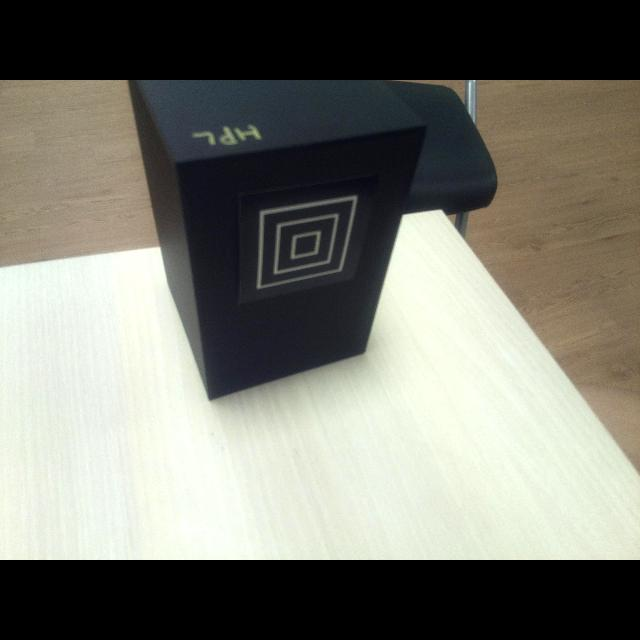BULLSEYE: (256, 196, 357, 290)
